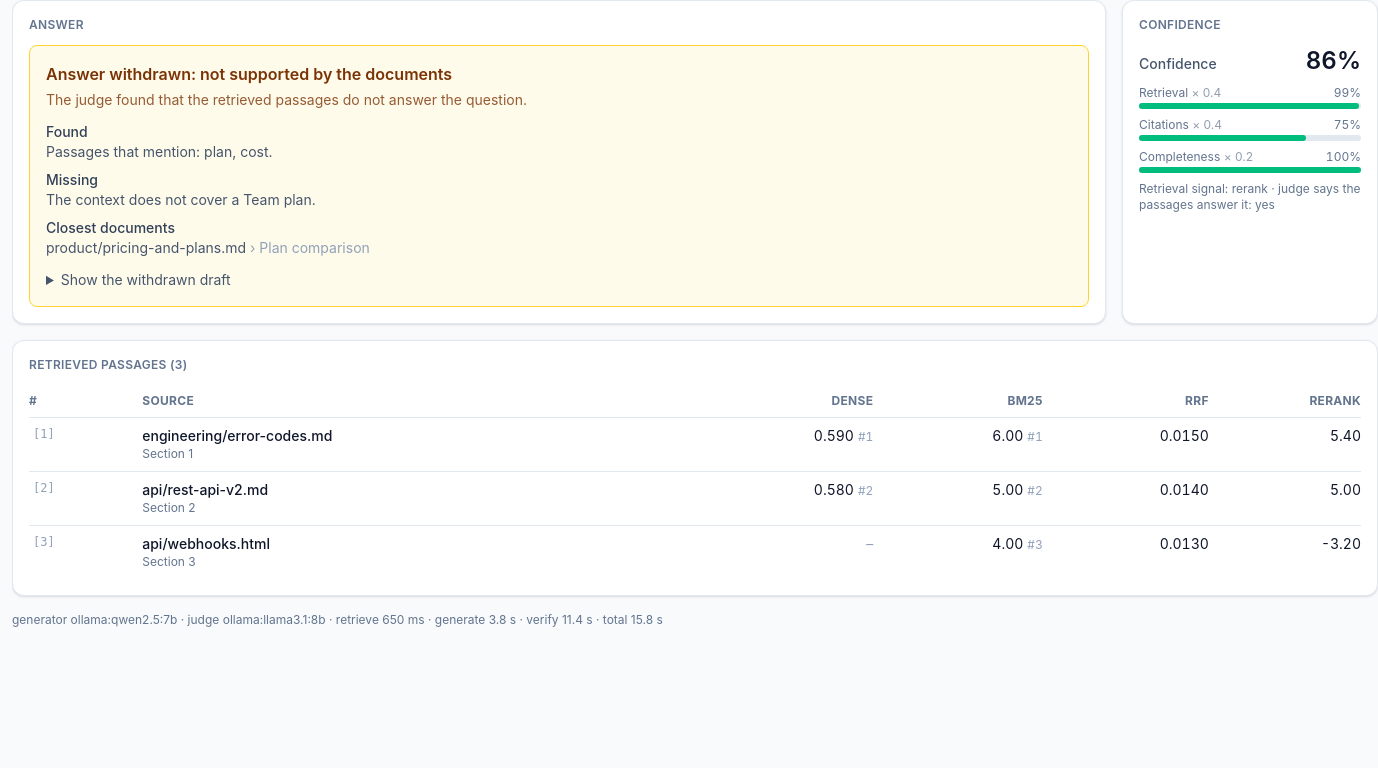
Scenario: AnswerPanel › shows an abstention with what was found, what is missing and the withdrawn draft
The width and height of the screenshot is (1378, 768).
Expected: the heading "Answer withdrawn: not supported by the documents" is shown, [46,64,452,84]
Expected: the text "The context does not cover a Team plan." is shown, [46,191,316,208]
Click the heading "Show the withdrawn draft" at (146, 280), box [61,271,231,288]
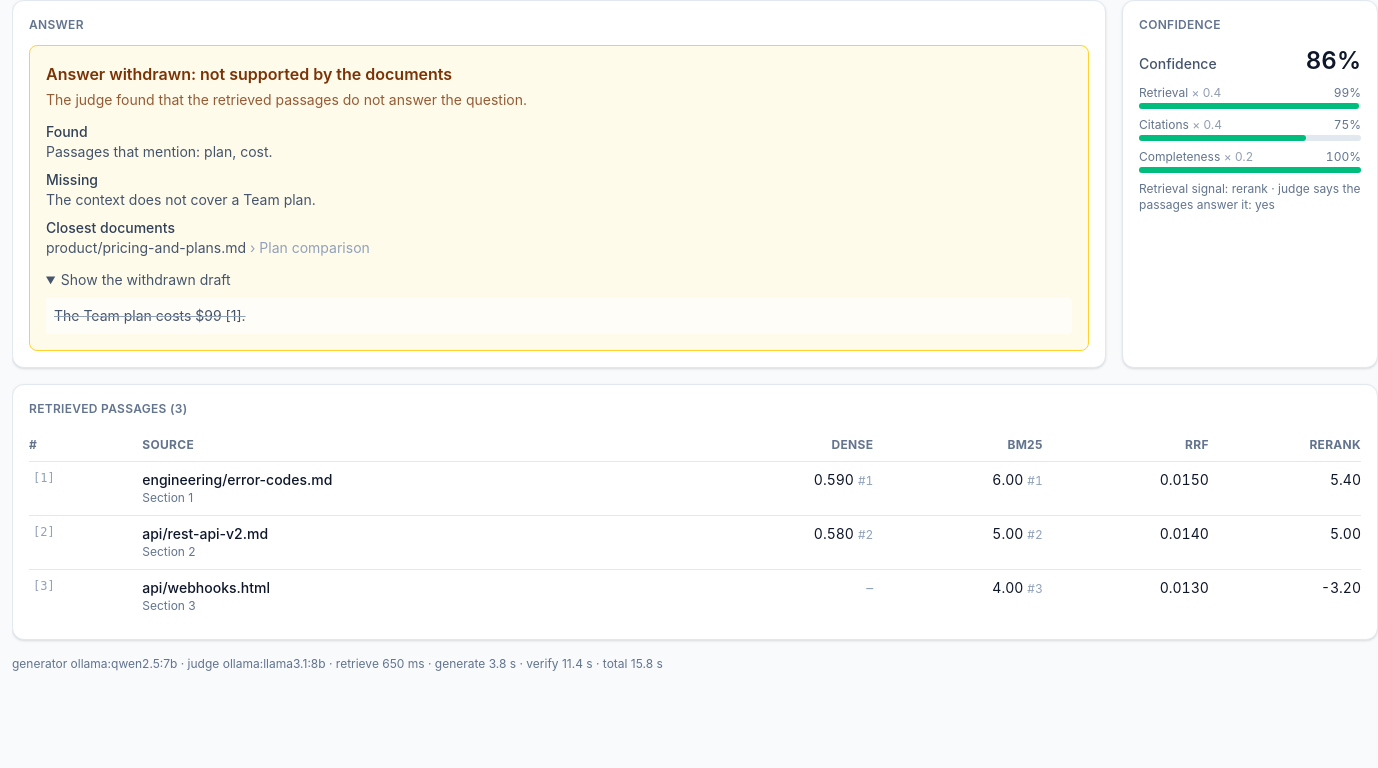
Now the text "The Team plan costs $99 [1]." is shown, box [46,298,1072,334]
